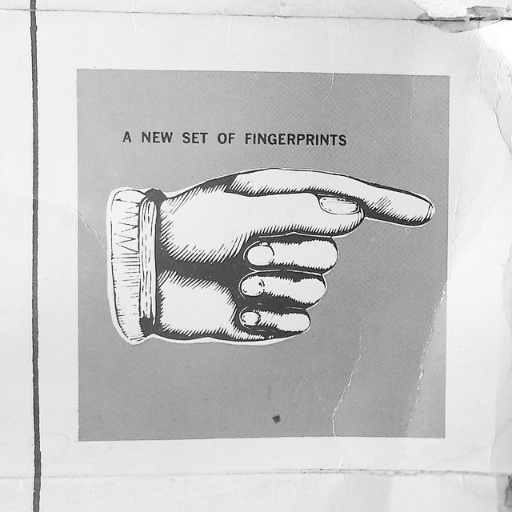hand: (140, 168, 409, 355)
